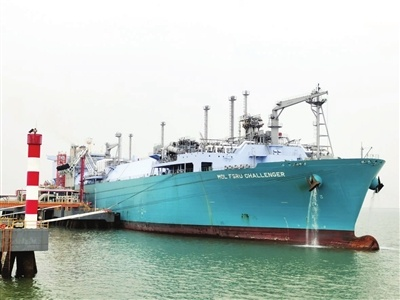Cargoship: (59, 83, 391, 253)
